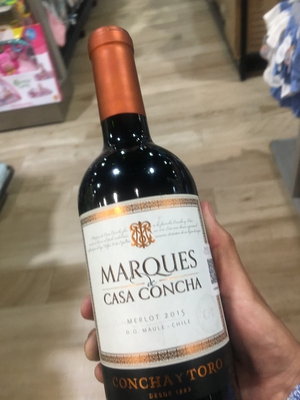marques de casa concha merlot: (73, 23, 228, 400)
